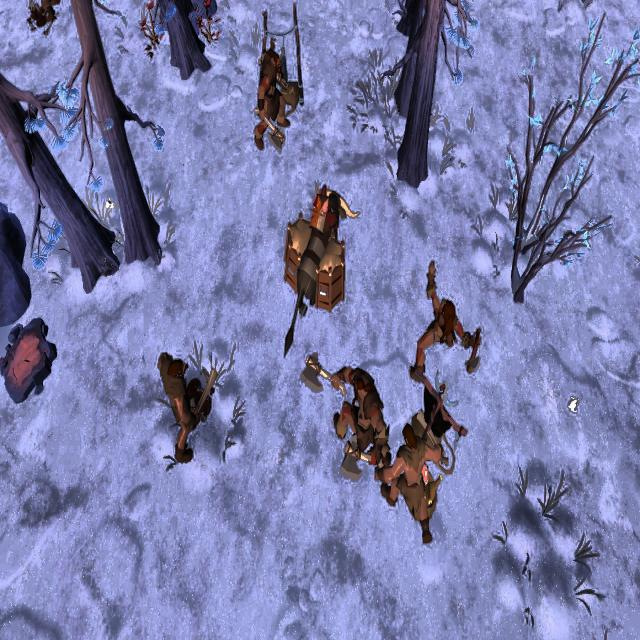enemy_factionKeeper: (306, 350, 384, 489), (408, 254, 484, 384), (380, 424, 446, 547), (155, 344, 216, 458), (253, 48, 290, 144)
